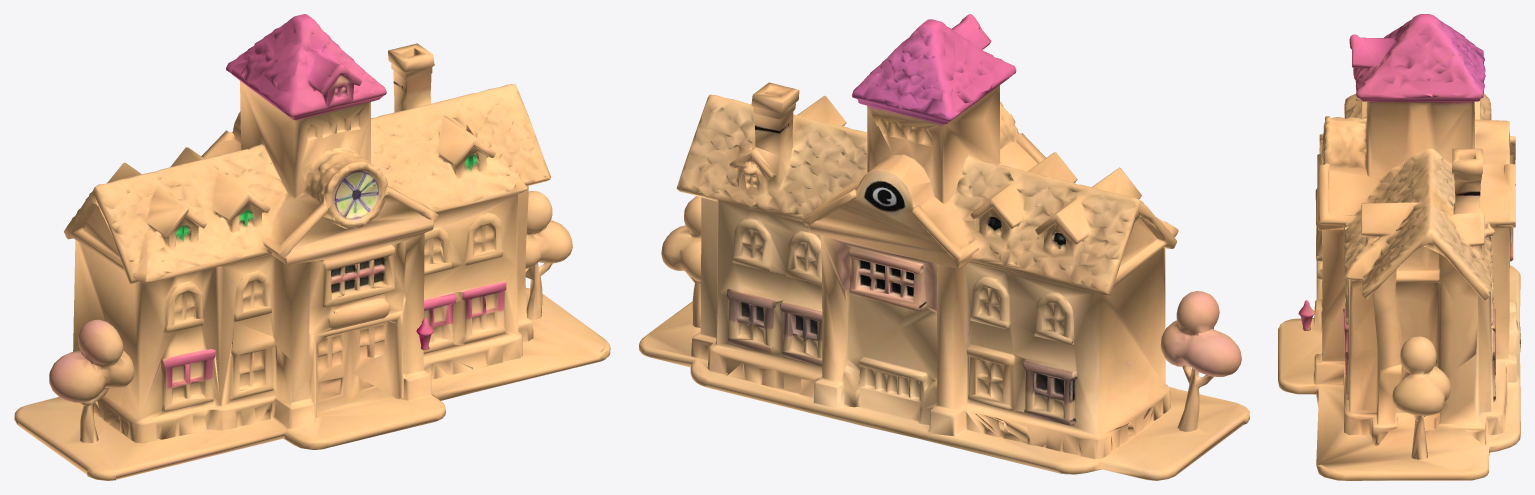
The model's file is clay-town-hall.glb.
3 views of the same model, side by side, from view 1: azimuth 30°, elevation 25°; view 2: azimuth 150°, elevation 25°; view 3: azimuth 270°, elevation 25° (orthographic). The views are drawn at different scales.
Size of the model in its own units: 1.91 by 1.23 by 0.7875.
Materials: 1 (1 with a texture image).
